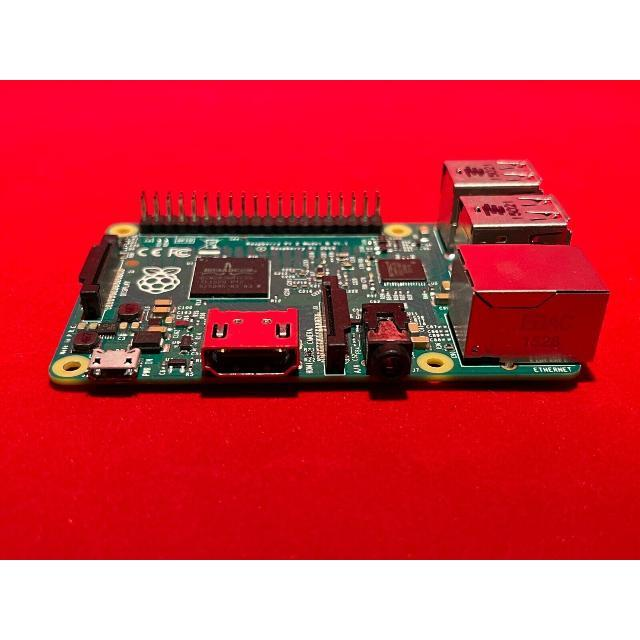Raspberry-Pi-2-B: (50, 162, 609, 386)
